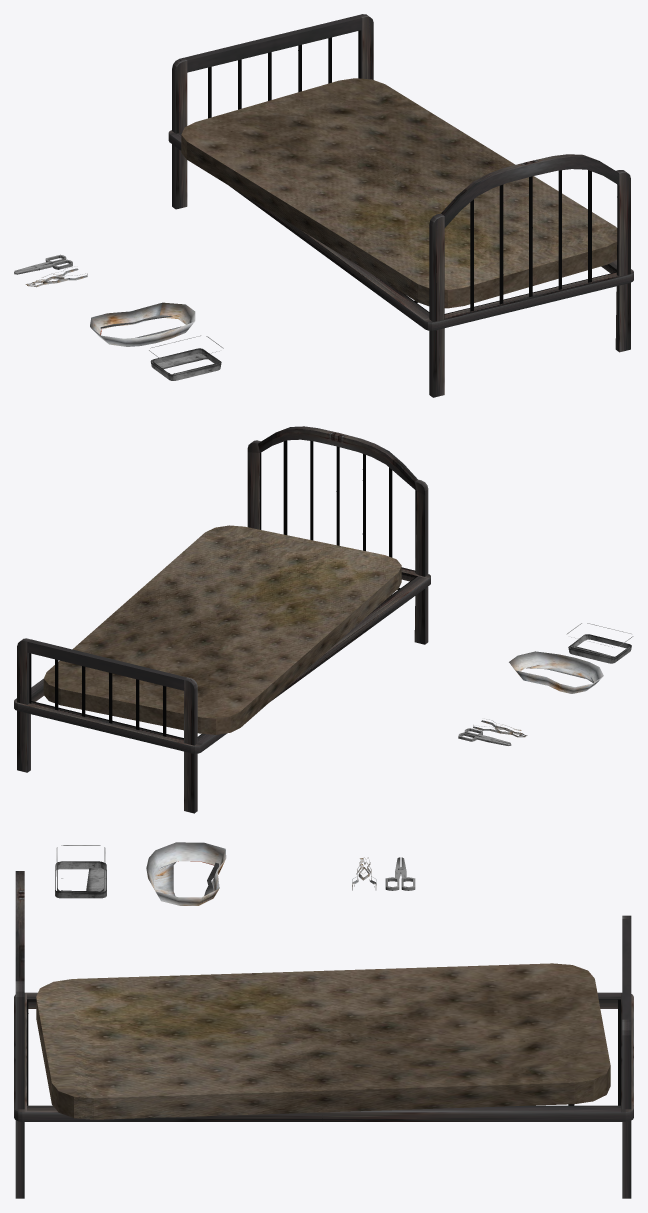
The model's file is hospital_props.fbx.
The picture shows the model from 3 angles, top to bottom: view 1: azimuth 30°, elevation 25°; view 2: azimuth 150°, elevation 25°; view 3: azimuth 270°, elevation 25°; orthographic projection. The views are drawn at different scales.
Parts seen in each view (by area): view 1: matras, bed, Plane.034, Plane.035; view 2: matras, bed, Plane.034, Plane.035; view 3: matras, bed, Plane.034, Plane.035, Plane.037.
Part boxes in pixels (left/top/right/bottom): matras: left=181, top=78, right=617, bottom=308; bed: left=168, top=14, right=633, bottom=397; Plane.034: left=90, top=302, right=195, bottom=346; Plane.035: left=149, top=335, right=223, bottom=380; matras: left=43, top=525, right=401, bottom=734; bed: left=14, top=426, right=430, bottom=813; Plane.034: left=509, top=651, right=603, bottom=693; Plane.035: left=566, top=623, right=633, bottom=663; matras: left=36, top=963, right=610, bottom=1119; bed: left=14, top=871, right=633, bottom=1198; Plane.034: left=146, top=842, right=226, bottom=905; Plane.035: left=55, top=845, right=106, bottom=898; Plane.037: left=385, top=857, right=415, bottom=890.
Size of the model in its own units: 462 by 438 by 192.
